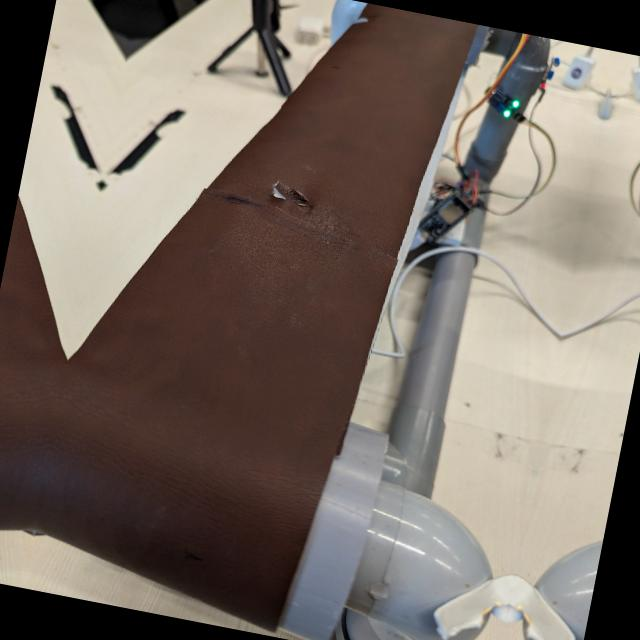joint_damage: (254, 169, 317, 222)
